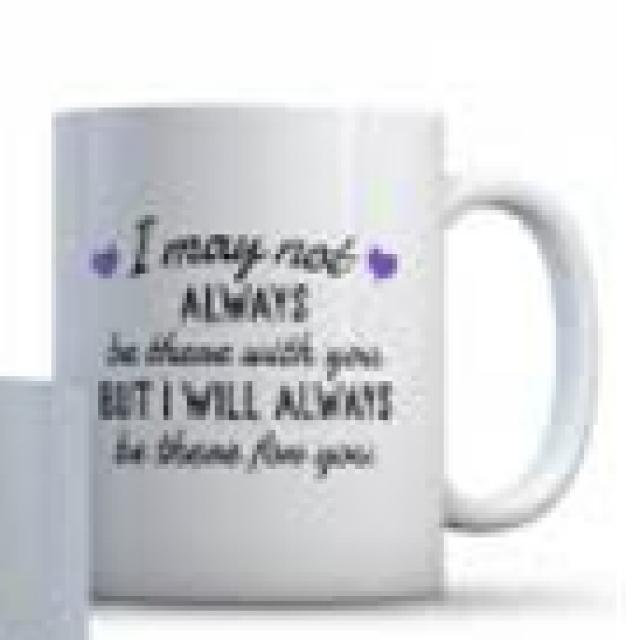taza: (51, 101, 600, 614)
